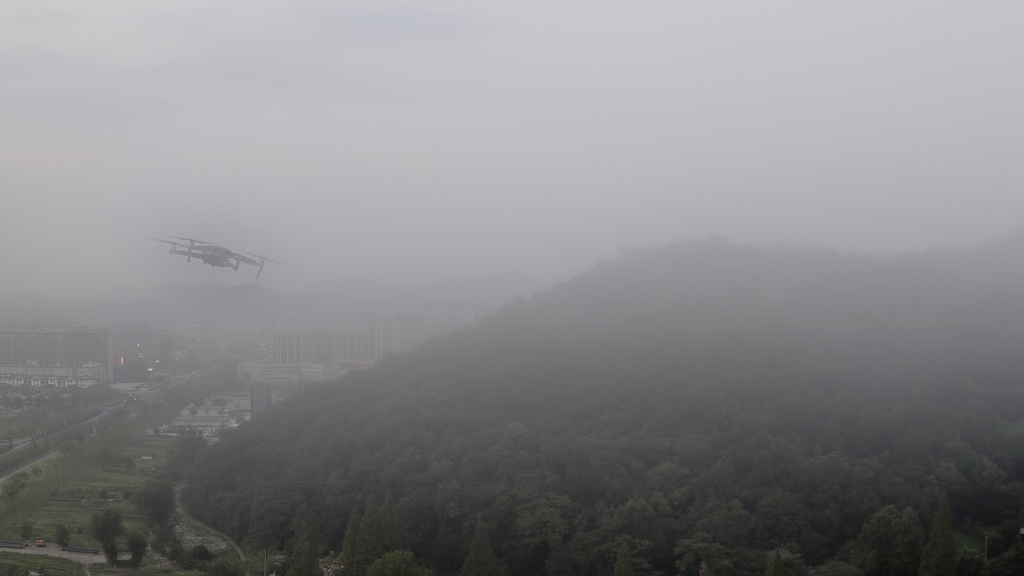UAV: (149, 233, 290, 281)
